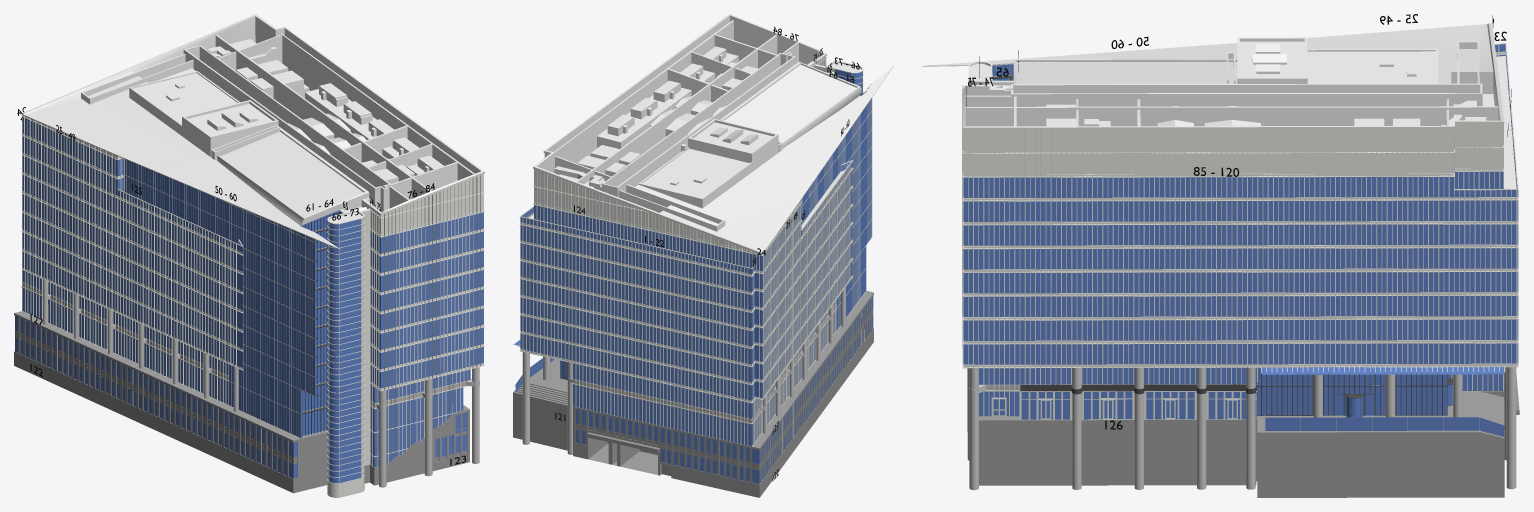
Rendered from 2KingdomStreet.glb.
3 renders of one model, left to right at view 1: azimuth 30°, elevation 25°; view 2: azimuth 150°, elevation 25°; view 3: azimuth 270°, elevation 25°, orthographic. The views are drawn at different scales.
Visible parts, largest first — view 1: Frame_1, HIGH_DETAIL_BUILDINGS, 2_Kingdom_St, Drop122, Drop127, Drop125, pillar, Drop126, Drop73, Glass, Drop72, Frame_2 (+52 smaller); view 2: Frame_1, HIGH_DETAIL_BUILDINGS, 2_Kingdom_St, Drop121, Drop124, pillar, Frame_2, Drop122, Drop17, Drop15, Drop13, Drop8 (+30 smaller); view 3: Frame_1, HIGH_DETAIL_BUILDINGS, 2_Kingdom_St, Drop126, pillar, Frame_3, Slider, Glass, Drop100, Drop90, Drop96, Drop102 (+33 smaller).
Boxes of the visible parts, x1,y1,x2,y2 form: Frame_1: (21,14,484,497); HIGH_DETAIL_BUILDINGS: (24,14,484,249); 2_Kingdom_St: (14,210,469,493); Drop122: (15,316,297,478); Drop127: (22,265,233,406); Drop125: (117,158,238,243); pillar: (42,279,479,487); Drop126: (377,370,466,466); Drop73: (350,219,360,480); Glass: (238,212,470,467); Drop72: (340,221,349,482); Frame_2: (15,325,297,478); Frame_1: (517,53,893,446); HIGH_DETAIL_BUILDINGS: (529,14,893,251); 2_Kingdom_St: (513,73,873,497); Drop121: (575,409,759,483); Drop124: (534,205,755,269); pillar: (522,287,845,454); Frame_2: (575,302,873,484); Drop122: (759,296,873,483); Drop17: (688,255,698,434); Drop15: (667,250,677,429); Drop13: (646,245,656,424); Drop8: (593,233,603,412); Frame_1: (922,23,1518,420); HIGH_DETAIL_BUILDINGS: (922,23,1516,188); 2_Kingdom_St: (979,391,1504,497); Drop126: (979,367,1504,419); pillar: (967,367,1516,490); Frame_3: (993,63,1504,428); Slider: (1265,374,1504,436); Glass: (992,64,1517,430); Drop100: (1196,177,1210,364); Drop90: (1041,177,1055,364); Drop96: (1134,177,1148,364); Drop102: (1227,177,1241,364).
Size of the model in its own units: 235 by 248 by 369.
